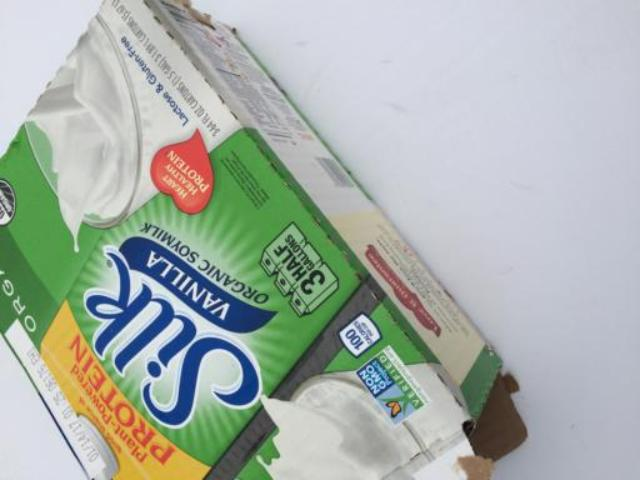cardboard paper: (0, 0, 518, 476)
